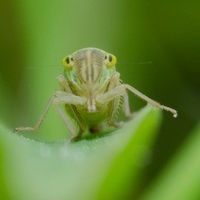insect: (15, 48, 177, 140)
